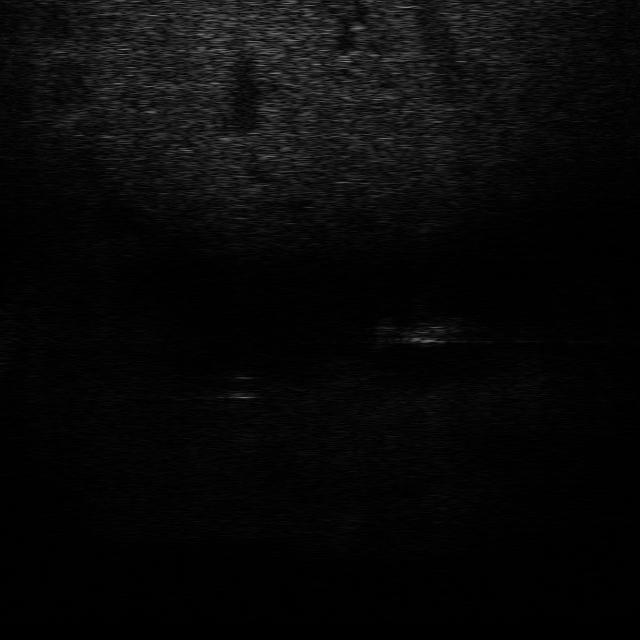ball: (219, 370, 266, 401)
human body: (368, 312, 462, 348)
